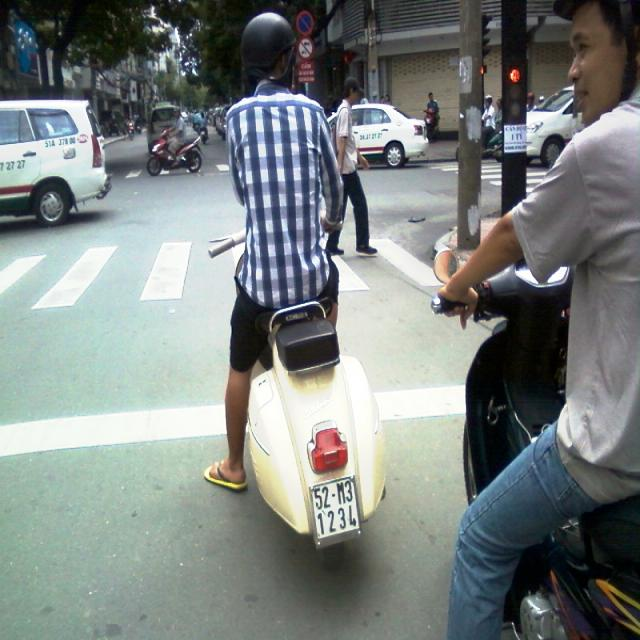license_plate: (311, 478, 364, 546)
